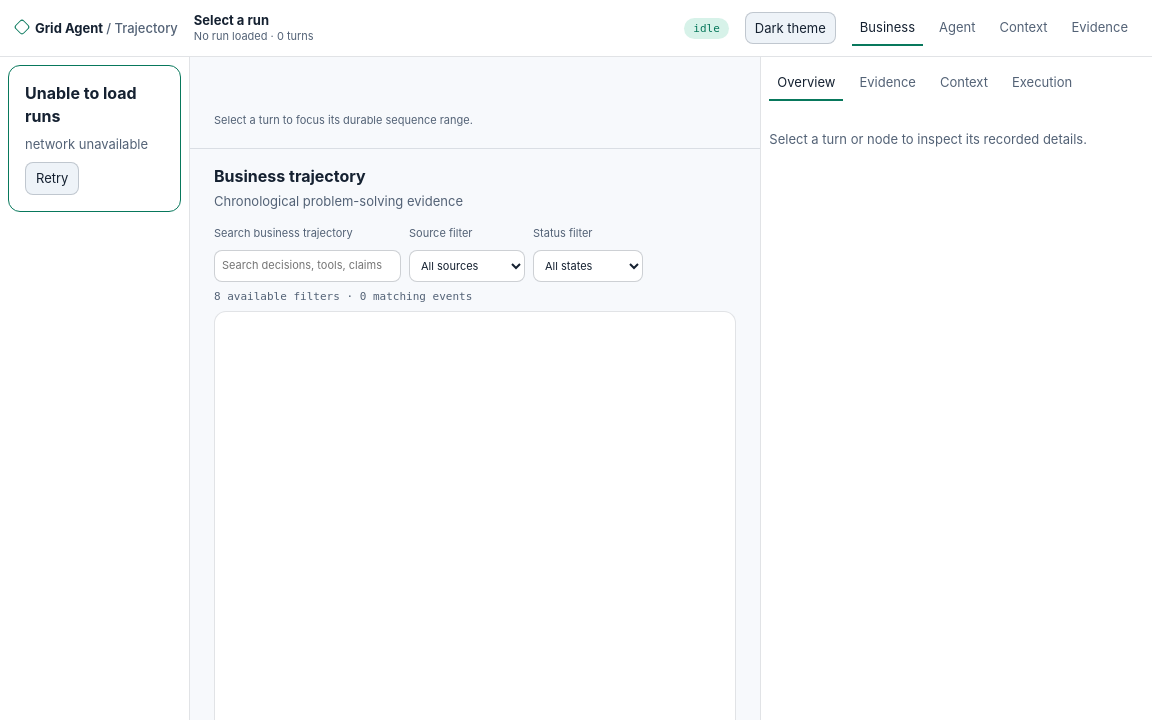
Test case: App shell › retries a failed run-list request
Click the button "Retry" at coordinates (52, 179), box [25,162,79,195]
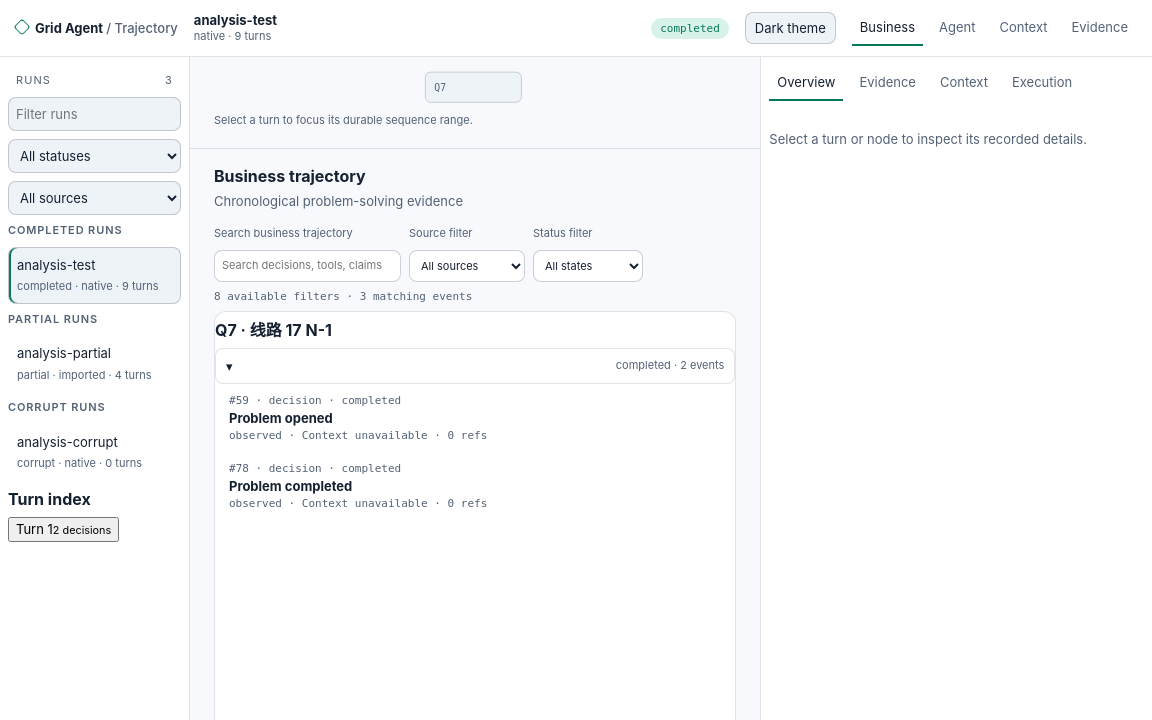
Now the navigation bar "Runs" is shown, box [8,73,181,542]
